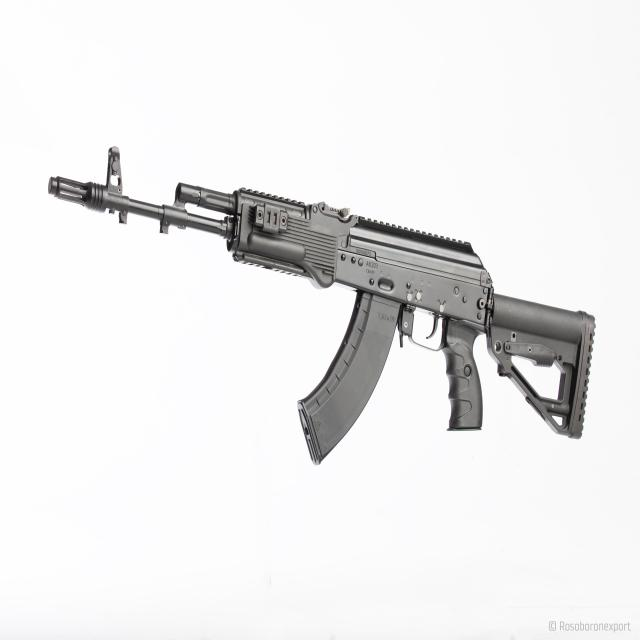Rifle: (47, 146, 596, 464)
